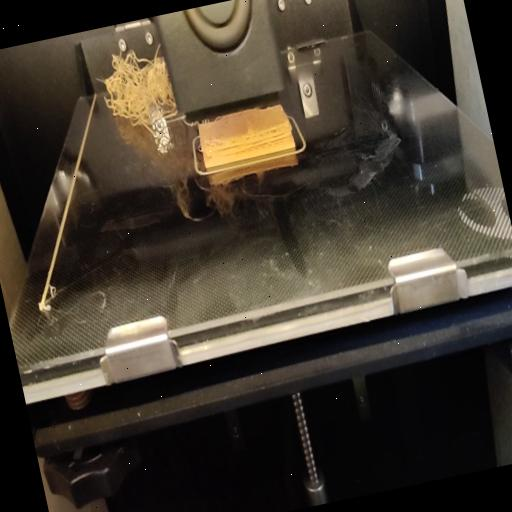spaghetti: (94, 42, 182, 152)
